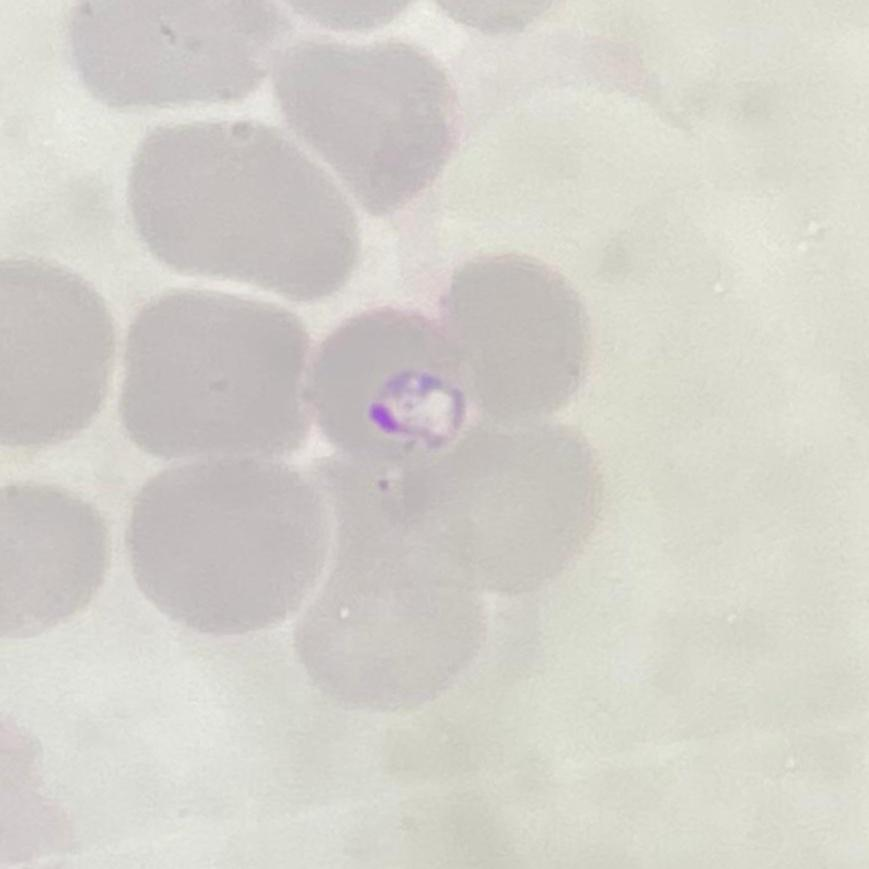Infected: (305, 305, 477, 470)
Uninfected: (125, 115, 365, 302), (127, 454, 336, 636), (115, 294, 317, 466), (273, 39, 456, 219), (432, 414, 600, 590), (65, 0, 286, 118), (445, 249, 588, 415), (0, 255, 117, 448)
